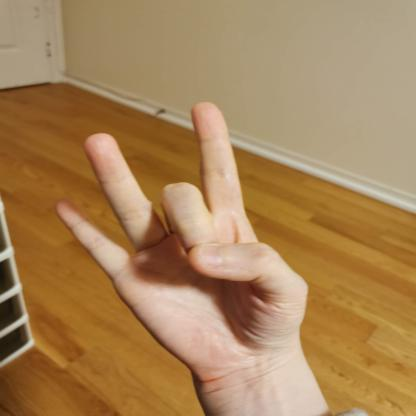eight: (36, 96, 322, 385)
